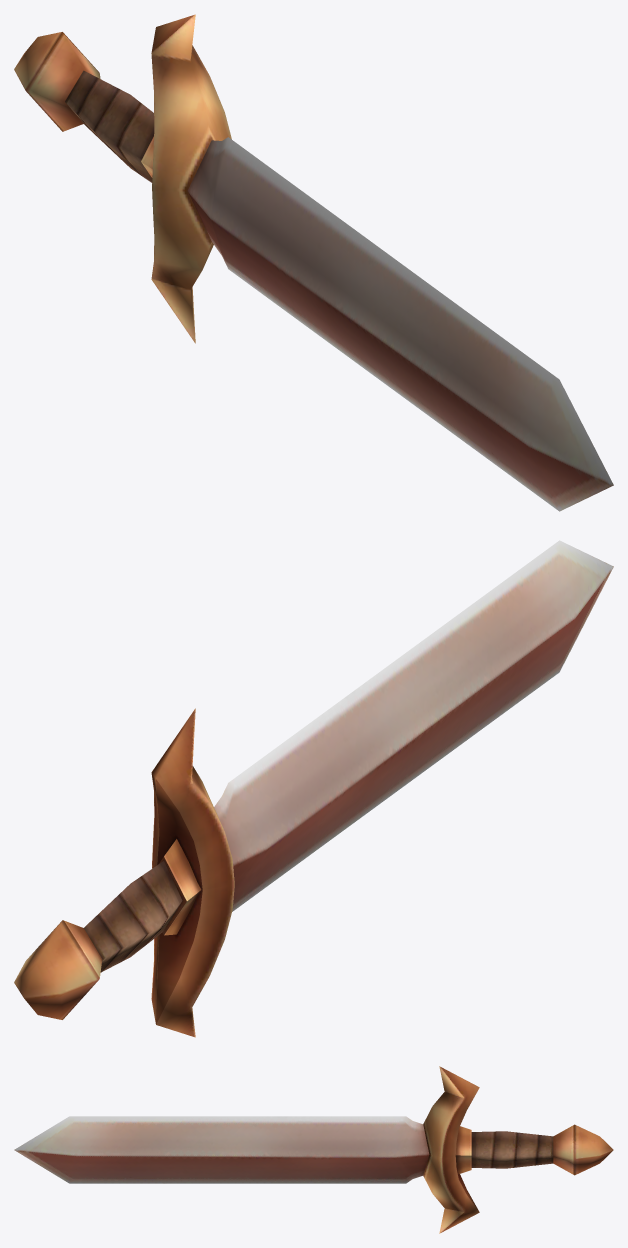
3 views of the same model, one above another, from view 1: azimuth 30°, elevation 25°; view 2: azimuth 150°, elevation 25°; view 3: azimuth 270°, elevation 25° (orthographic). The views are drawn at different scales.
Visible parts, largest first — view 1: mSword; view 2: mSword; view 3: mSword.
Boxes of the visible parts, box(x1,y1,x2,y2) form: mSword: box(14, 14, 613, 511); mSword: box(14, 540, 613, 1037); mSword: box(14, 1066, 613, 1233).
Size of the model in its own units: 0.0651 by 0.2477 by 0.803.
